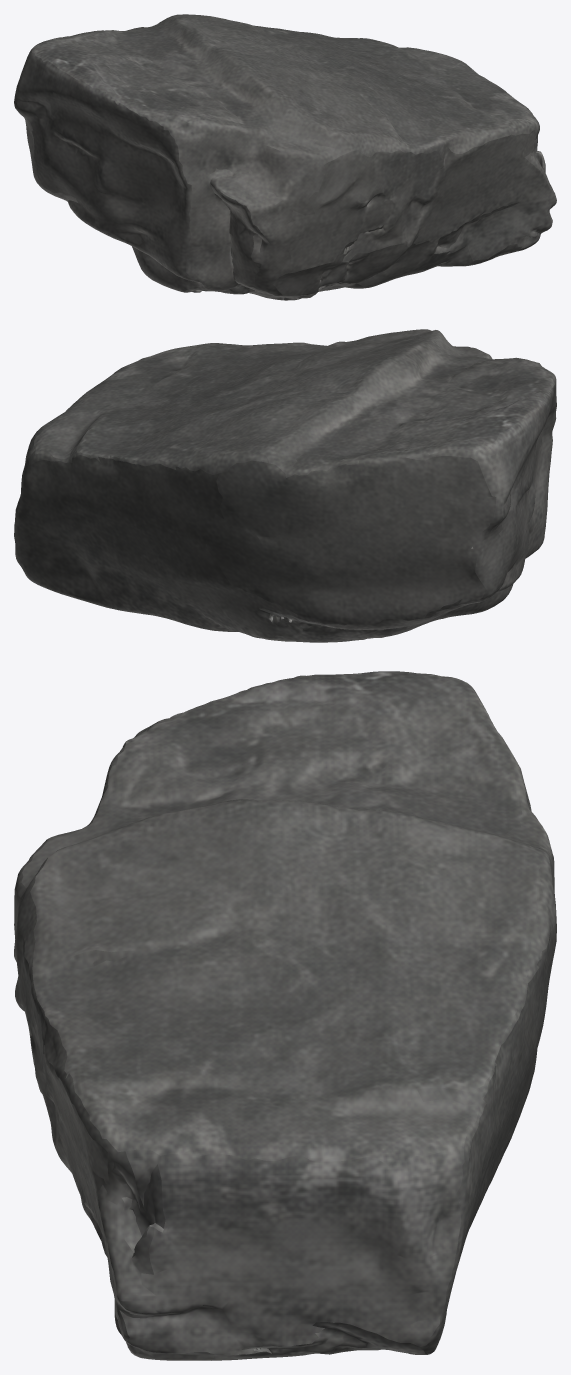
3 views of the same model, one above another, from view 1: azimuth 30°, elevation 25°; view 2: azimuth 150°, elevation 25°; view 3: azimuth 270°, elevation 25° (orthographic). The views are drawn at different scales.
Visible parts, largest first — view 1: world; view 2: world; view 3: world.
Part boxes in pixels (box(x1,y1,x2,y2)): world: box(14, 14, 556, 300); world: box(14, 329, 556, 642); world: box(14, 671, 556, 1360).
Size of the model in its own units: 3.5 by 1.75 by 2.31.
Materials: 1 (1 with a texture image).
